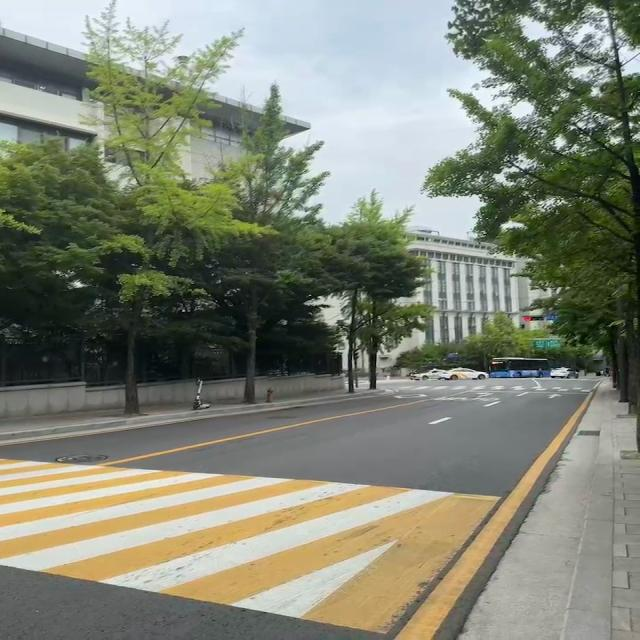building: (2, 29, 316, 192), (300, 228, 534, 376)
